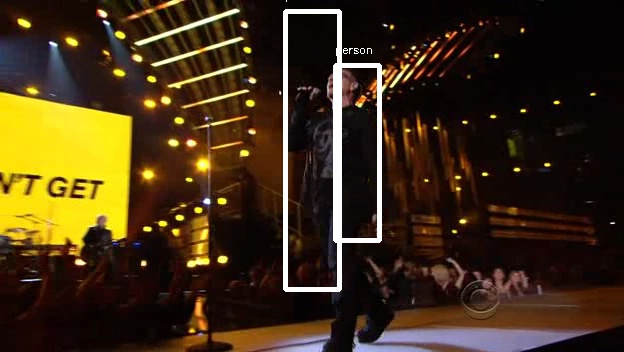person: (293, 65, 378, 236), (290, 65, 375, 236), (296, 65, 381, 236), (293, 62, 378, 233), (293, 68, 378, 239)
target_negative: (44, 9, 129, 325), (363, 280, 576, 345), (3, 51, 82, 208), (165, 286, 232, 328), (542, 340, 604, 351), (327, 346, 457, 348)
